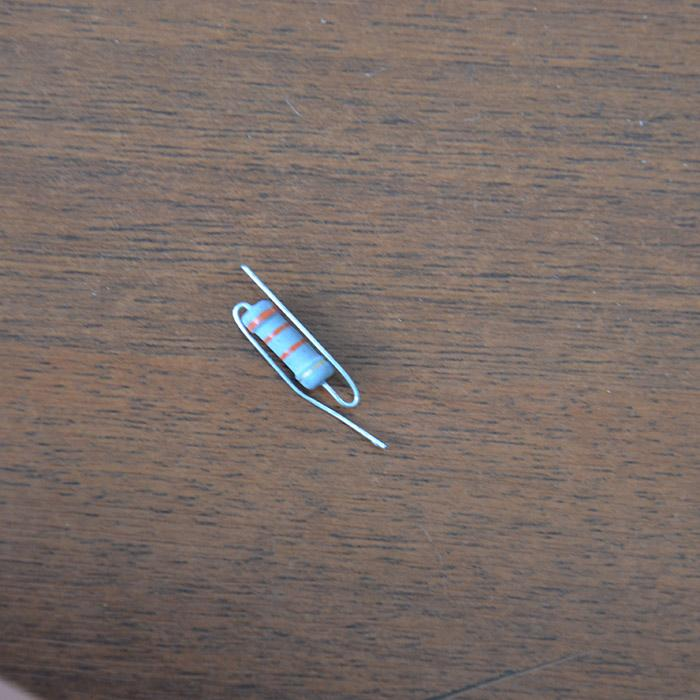resistor: (237, 297, 334, 391)
